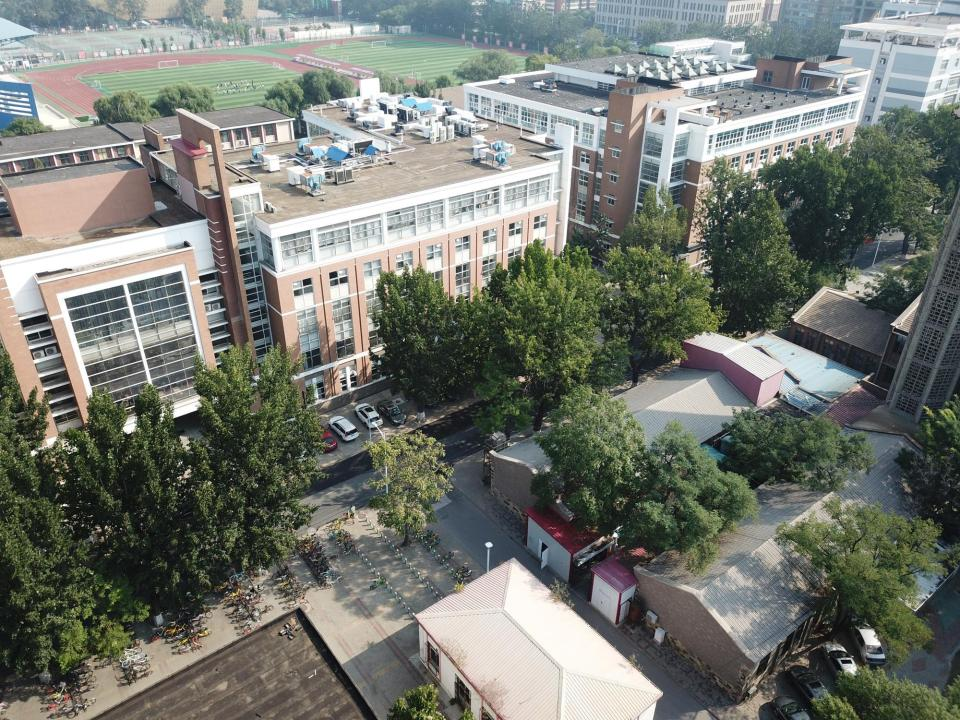car: (784, 664, 834, 715), (847, 617, 885, 667), (821, 643, 858, 694), (771, 694, 810, 720), (328, 415, 358, 443), (376, 399, 406, 426), (353, 403, 383, 429), (310, 424, 337, 452), (408, 384, 438, 408), (439, 378, 460, 400)
